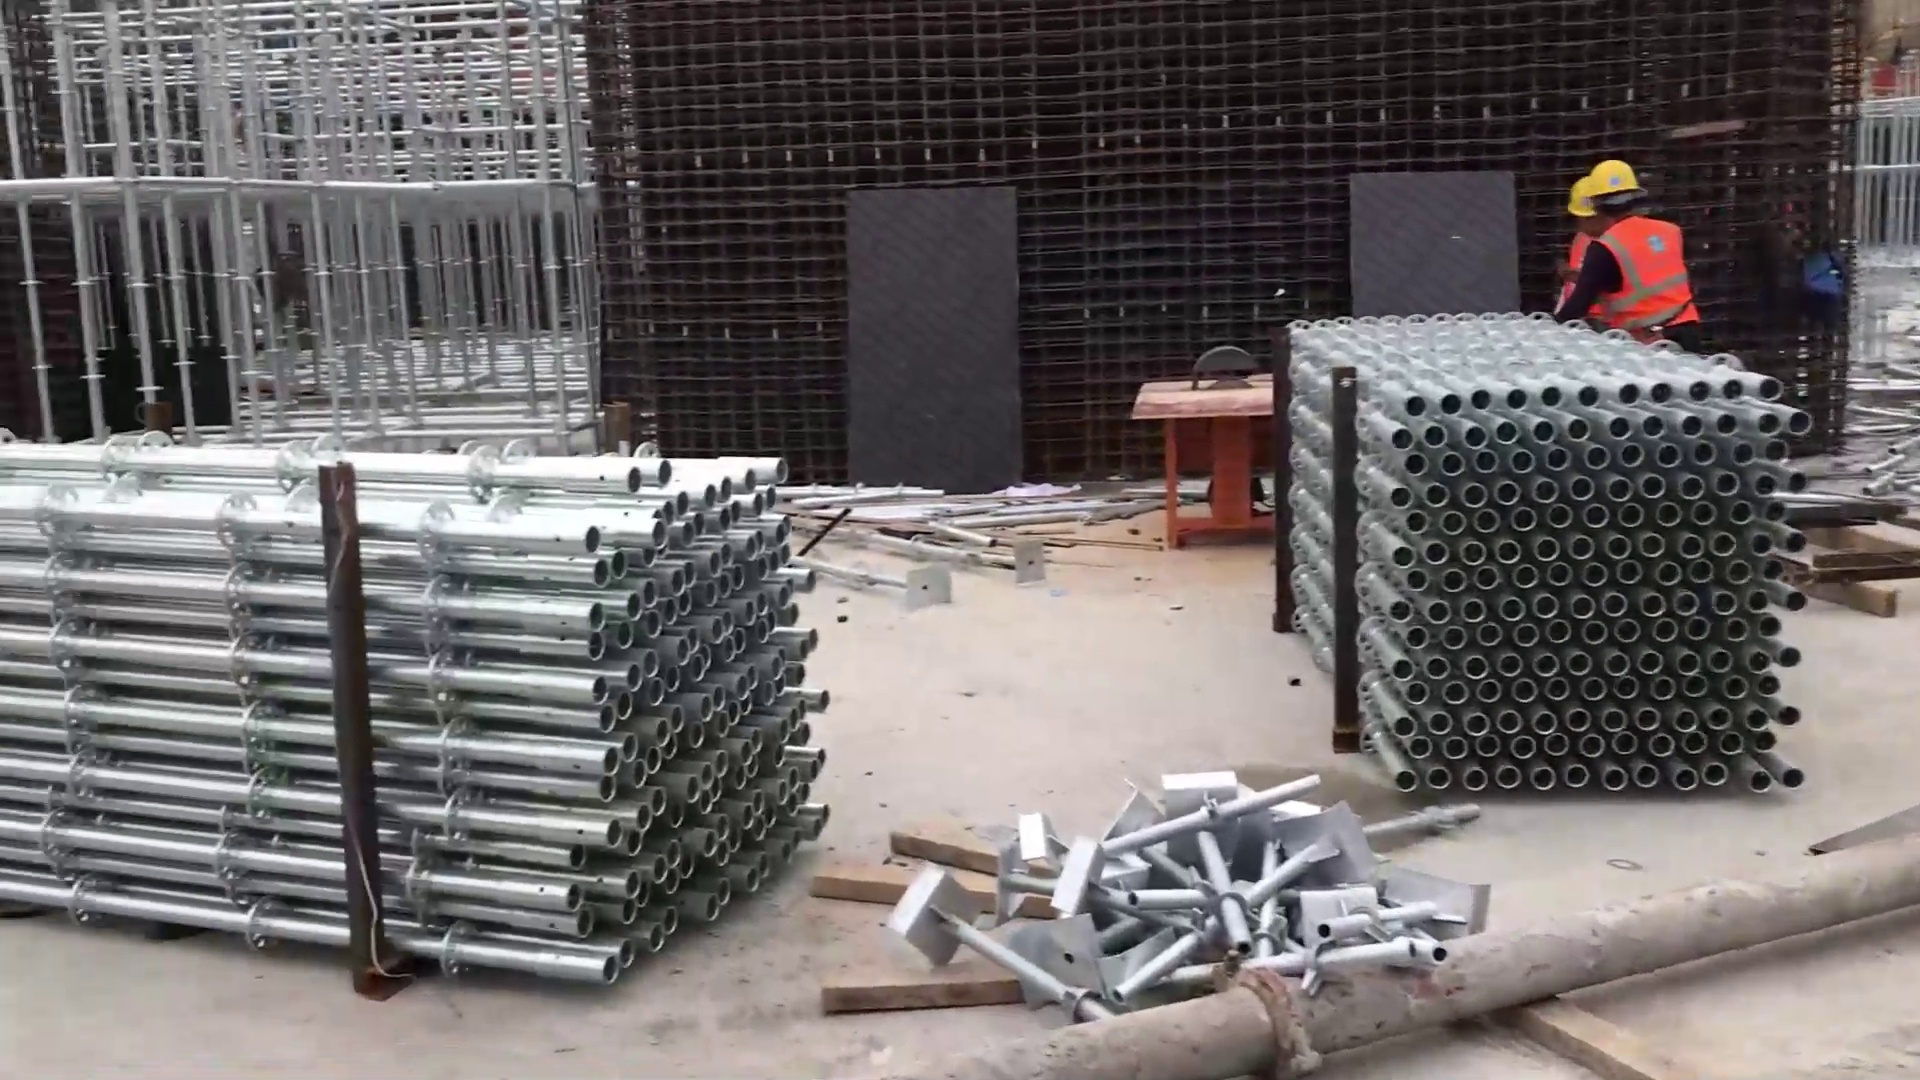cutter: (1128, 334, 1275, 563)
helmet: (1588, 158, 1642, 199), (1569, 176, 1594, 220)
person: (1581, 153, 1714, 341)
scaffold: (1, 429, 837, 981), (1281, 298, 1815, 815)
vest: (1574, 213, 1704, 333)
